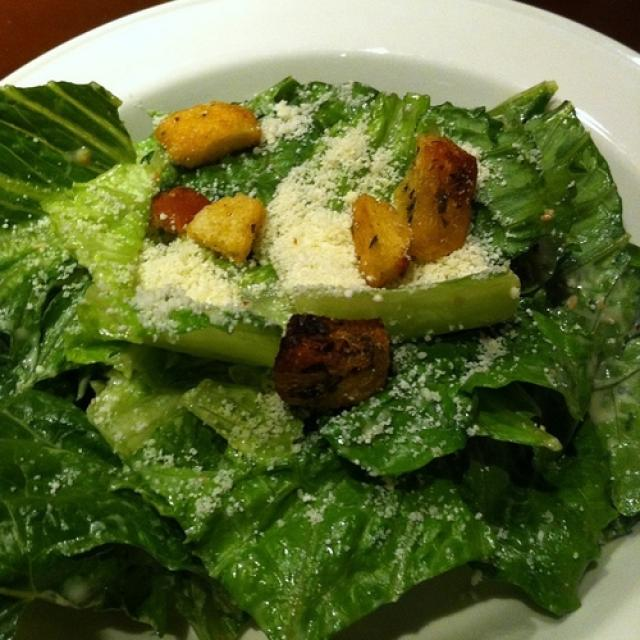蔬菜料理: (5, 18, 627, 631)
